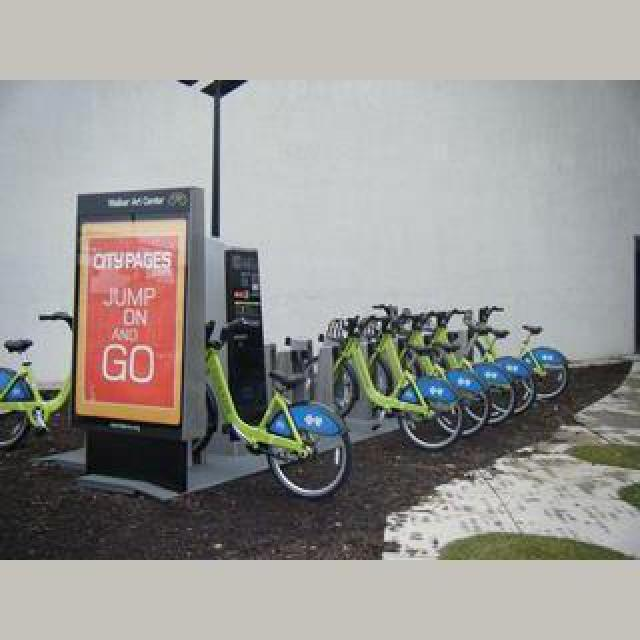Person: (190, 316, 354, 504), (334, 306, 464, 450), (474, 316, 570, 406)
